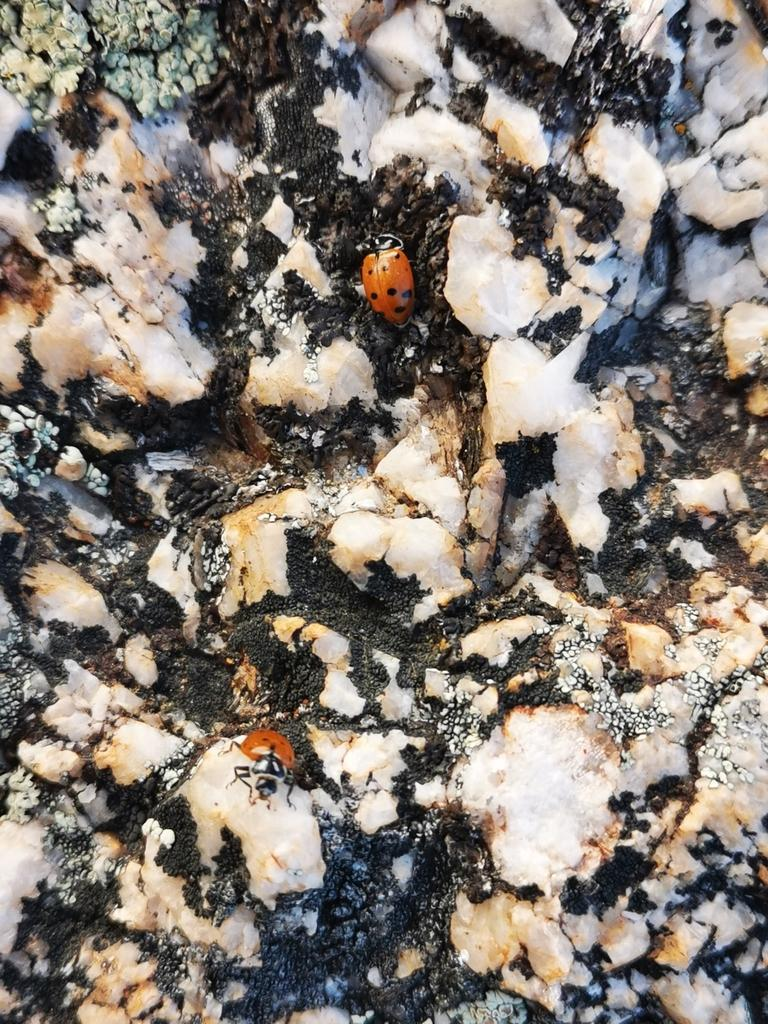ladybug: (360, 230, 425, 332), (222, 728, 300, 812)
